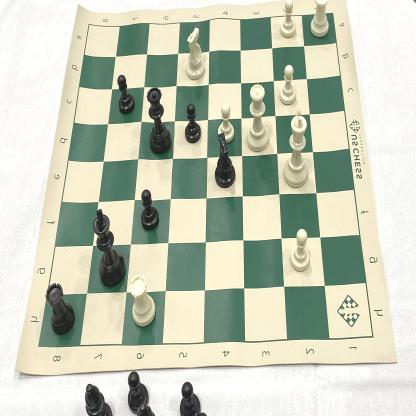black-king: (92, 207, 128, 292)
black-knight: (210, 132, 242, 189)
black-pawn: (116, 69, 138, 118), (182, 102, 204, 148), (140, 188, 161, 236)
black-queen: (146, 83, 174, 160)
black-rook: (46, 279, 78, 341)
white-king: (281, 107, 312, 191)
white-knight: (183, 24, 209, 83)
white-pawn: (215, 98, 239, 147), (289, 226, 313, 273), (278, 61, 300, 107), (279, 0, 300, 41)
white-queen: (247, 80, 270, 154)
white-rook: (128, 270, 157, 330), (308, 0, 332, 39)
